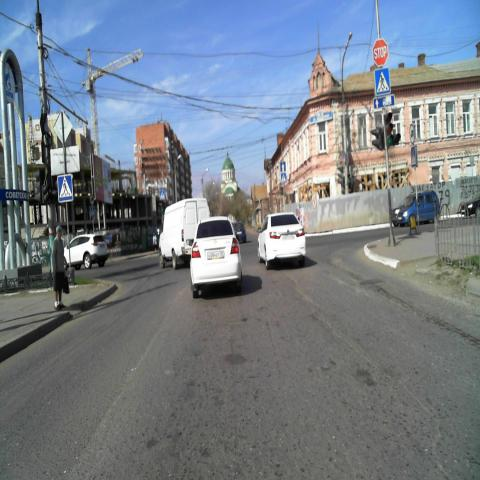2_5: (373, 38, 389, 68)
6_15_1: (373, 95, 395, 109)
